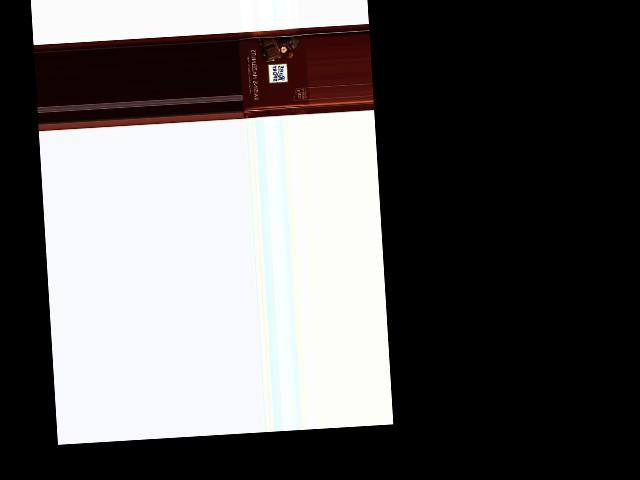chocolate: (237, 26, 310, 118)
